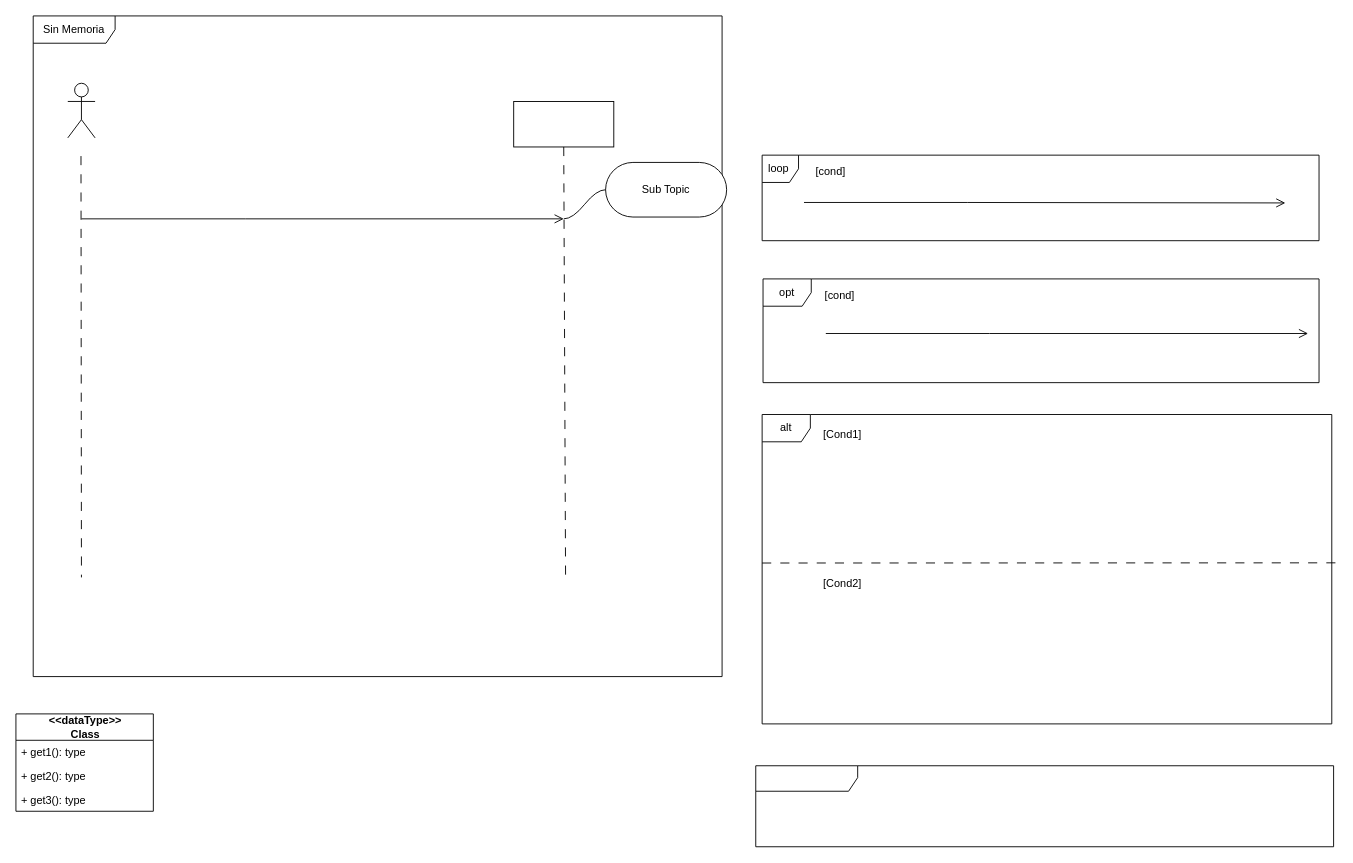
Some shapes in this 1353 by 863 pixel diagram are drawn without their labels. The shapes that lost their labels are listed below. From the top down, each one's centre as x and y in pixels, then its label:
At [81,110]: "Actor".
At [563,124]: ":sistema".
At [1044,806]: "ref".
